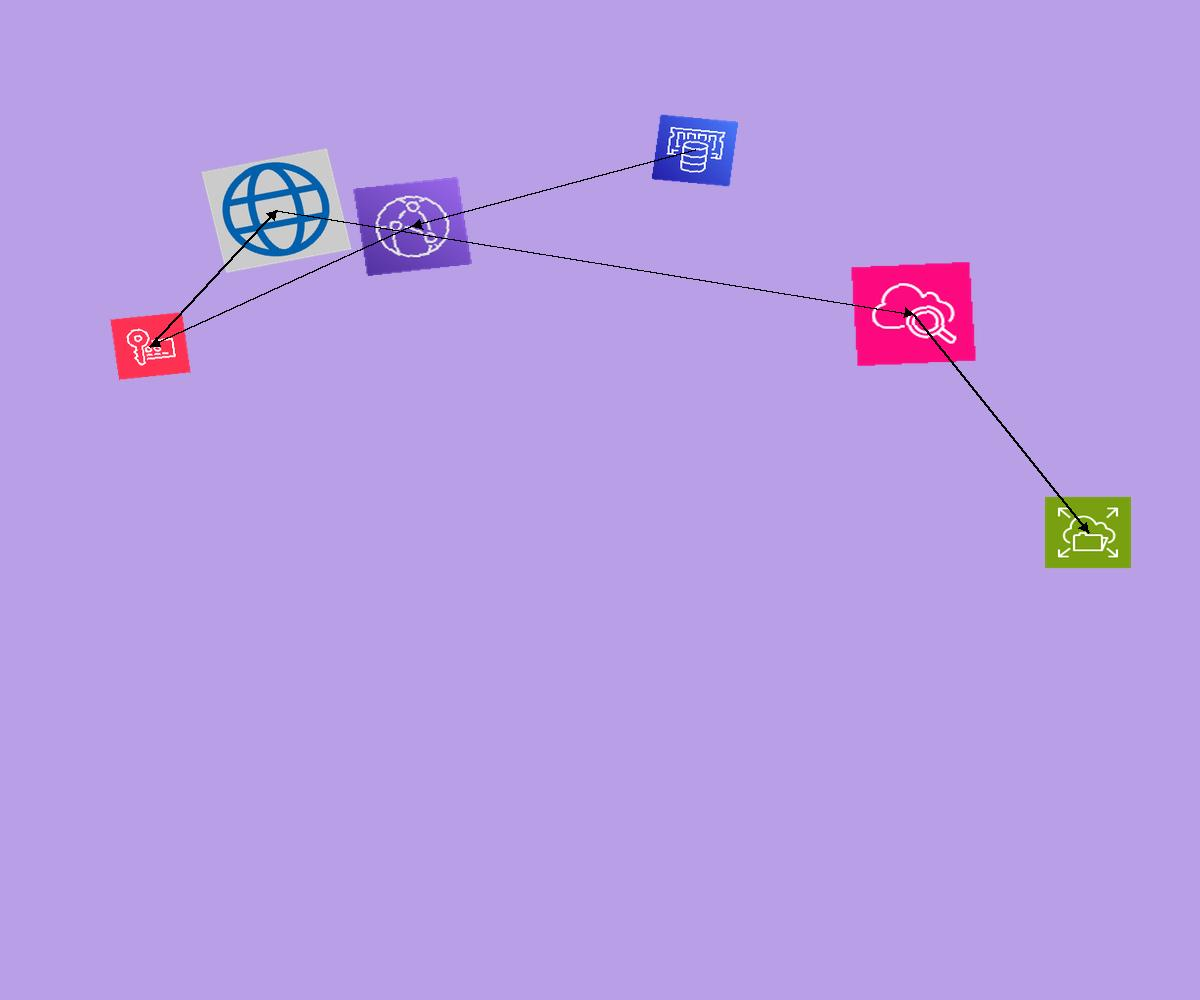AWS-CloudFront: (352, 176, 473, 277)
AWS-CloudWatch: (850, 261, 977, 367)
AWS-EFS: (1044, 496, 1132, 569)
AWS-ElastiCache: (651, 114, 739, 187)
AWS-Key-Management-Service: (110, 312, 191, 380)
Azure_http: (201, 148, 352, 273)
